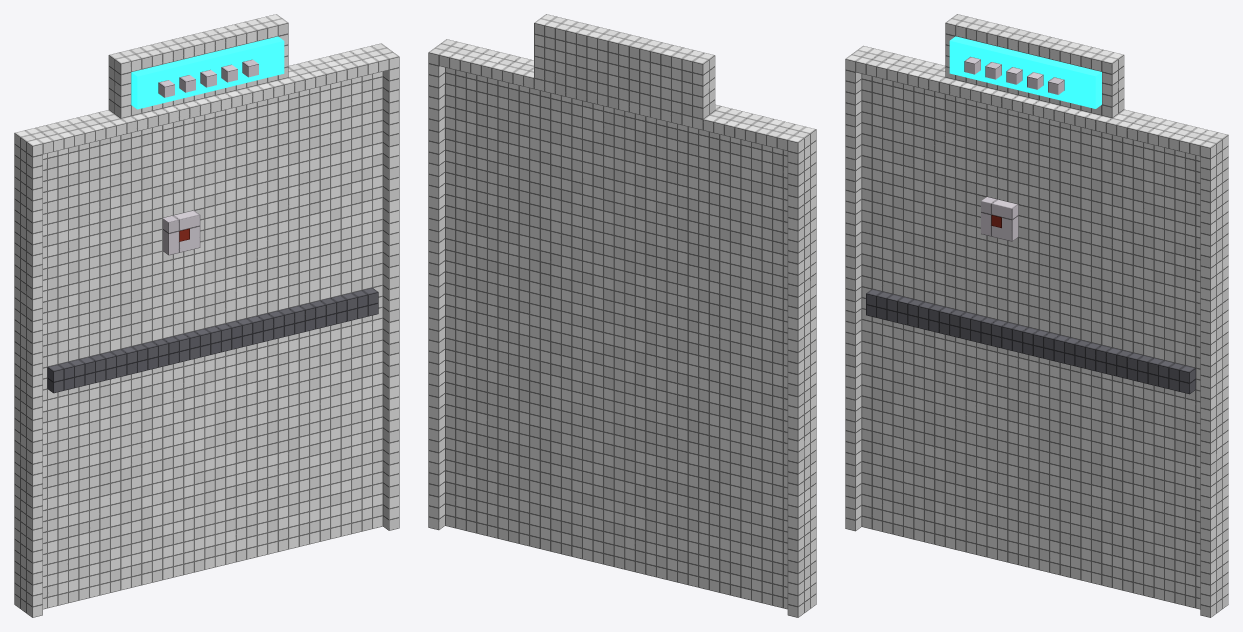
The model's file is emergency_door.glb.
3 views of the same model, side by side, from view 1: azimuth 30°, elevation 25°; view 2: azimuth 150°, elevation 25°; view 3: azimuth 330°, elevation 25° (orthographic).
Parts seen in each view (by area): view 1: emergency_door; view 2: emergency_door; view 3: emergency_door.
Part boxes in pixels (x1,y1,x2,y2): emergency_door: (14,14,399,617); emergency_door: (428,14,816,617); emergency_door: (845,14,1228,617).
Bounding box in the file's own units: 1.75 × 2.4 × 0.2.
Materials: 6 (5 with a texture image).
